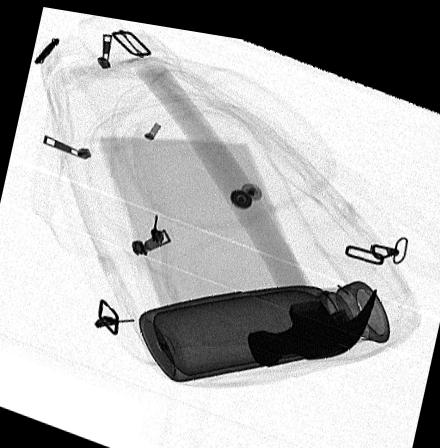Hammer: (135, 55, 377, 358)
